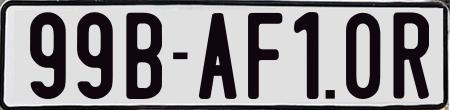0: (344, 11, 379, 100)
1: (292, 9, 319, 97)
9: (75, 11, 114, 103), (28, 12, 65, 102)
A: (197, 10, 237, 102)
B: (124, 12, 162, 102)
F: (245, 13, 279, 103)
R: (391, 10, 427, 100)
